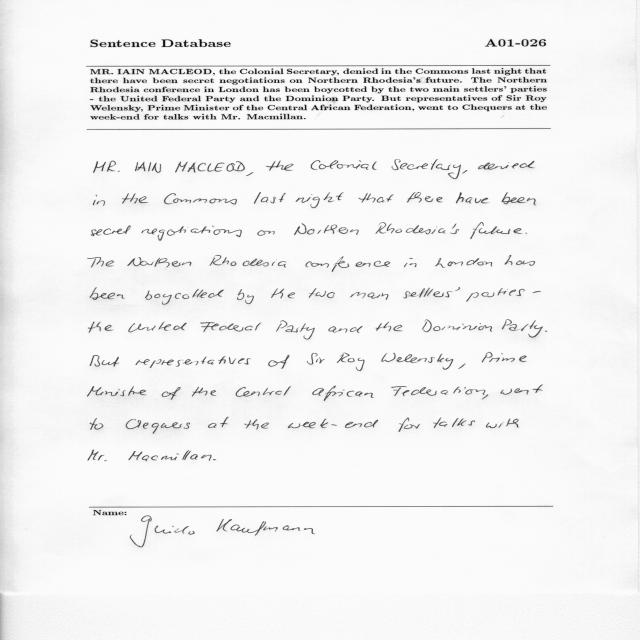word: (141, 226, 242, 241), (135, 356, 251, 368), (392, 159, 461, 179), (391, 386, 489, 400), (306, 256, 390, 272), (145, 289, 224, 305), (381, 353, 453, 370), (210, 255, 287, 268), (376, 223, 459, 235), (126, 419, 190, 434), (312, 386, 374, 401), (129, 450, 212, 461), (422, 319, 492, 332), (288, 419, 378, 429), (470, 222, 522, 239), (164, 193, 237, 205), (175, 161, 245, 173), (466, 288, 525, 302), (294, 223, 359, 235), (276, 320, 315, 340), (502, 319, 543, 338), (296, 192, 344, 208), (128, 257, 192, 268), (311, 160, 377, 170), (403, 288, 460, 299), (201, 322, 262, 332), (236, 386, 291, 397), (128, 322, 187, 332), (88, 386, 147, 396), (436, 258, 493, 268), (478, 161, 535, 170), (482, 352, 527, 363), (337, 353, 364, 371), (433, 417, 475, 428), (502, 193, 536, 206), (91, 225, 131, 236), (90, 288, 125, 300), (407, 192, 443, 203), (254, 192, 286, 204), (456, 193, 489, 204), (359, 193, 394, 203), (505, 255, 535, 266), (398, 417, 420, 432), (90, 355, 119, 366), (94, 161, 120, 173), (351, 292, 389, 300), (266, 160, 293, 171), (486, 419, 519, 428), (269, 355, 290, 369), (514, 385, 543, 395), (135, 162, 161, 173), (122, 193, 148, 204), (88, 322, 114, 333), (244, 419, 269, 430), (87, 257, 114, 267), (309, 288, 335, 298), (237, 289, 254, 304), (162, 387, 181, 400), (376, 322, 403, 331), (271, 289, 295, 299), (192, 387, 216, 397), (329, 326, 363, 333), (208, 417, 229, 428), (307, 353, 325, 365), (88, 450, 107, 461), (90, 418, 104, 430), (93, 195, 105, 206), (404, 258, 417, 267), (257, 230, 275, 236), (500, 389, 512, 395), (459, 364, 466, 369), (246, 172, 253, 176), (533, 291, 541, 293), (462, 170, 467, 173), (213, 459, 216, 460), (526, 233, 528, 234), (545, 331, 547, 332)
